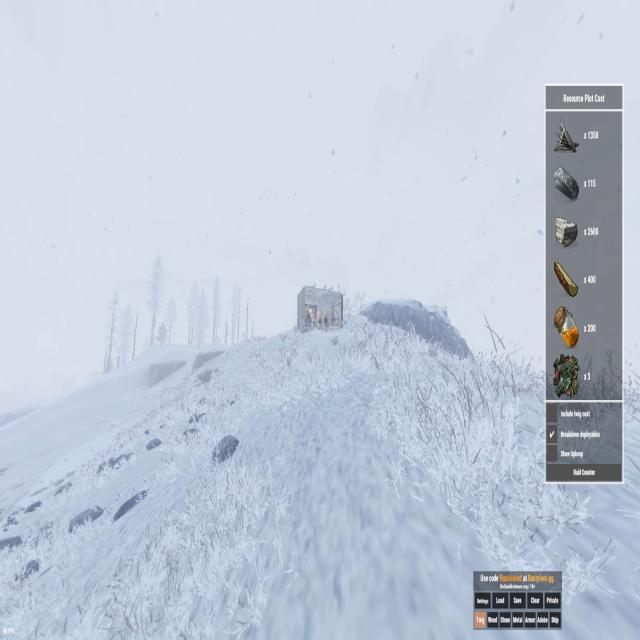Player: (330, 308, 336, 329), (312, 306, 316, 328)
